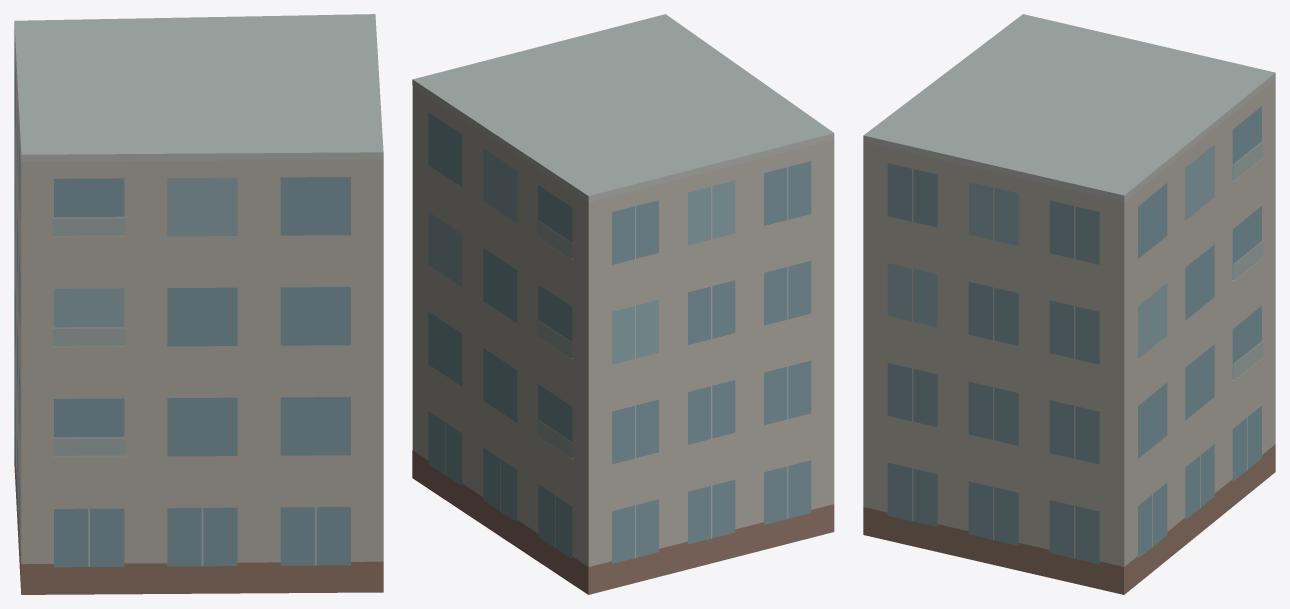
Rendered from survey-upis-32494442.glb.
The picture shows the model from 3 angles, left to right: view 1: azimuth 30°, elevation 25°; view 2: azimuth 150°, elevation 25°; view 3: azimuth 270°, elevation 25°; orthographic projection. The views are drawn at different scales.
Visible parts, largest first — view 1: survey-upis-32494442.tmp; view 2: survey-upis-32494442.tmp; view 3: survey-upis-32494442.tmp.
Boxes of the visible parts, x1,y1,x2,y2 form: survey-upis-32494442.tmp: [14, 14, 383, 594]; survey-upis-32494442.tmp: [412, 14, 834, 594]; survey-upis-32494442.tmp: [863, 14, 1275, 594].
Size of the model in its own units: 14.82 by 15.2 by 14.23.
